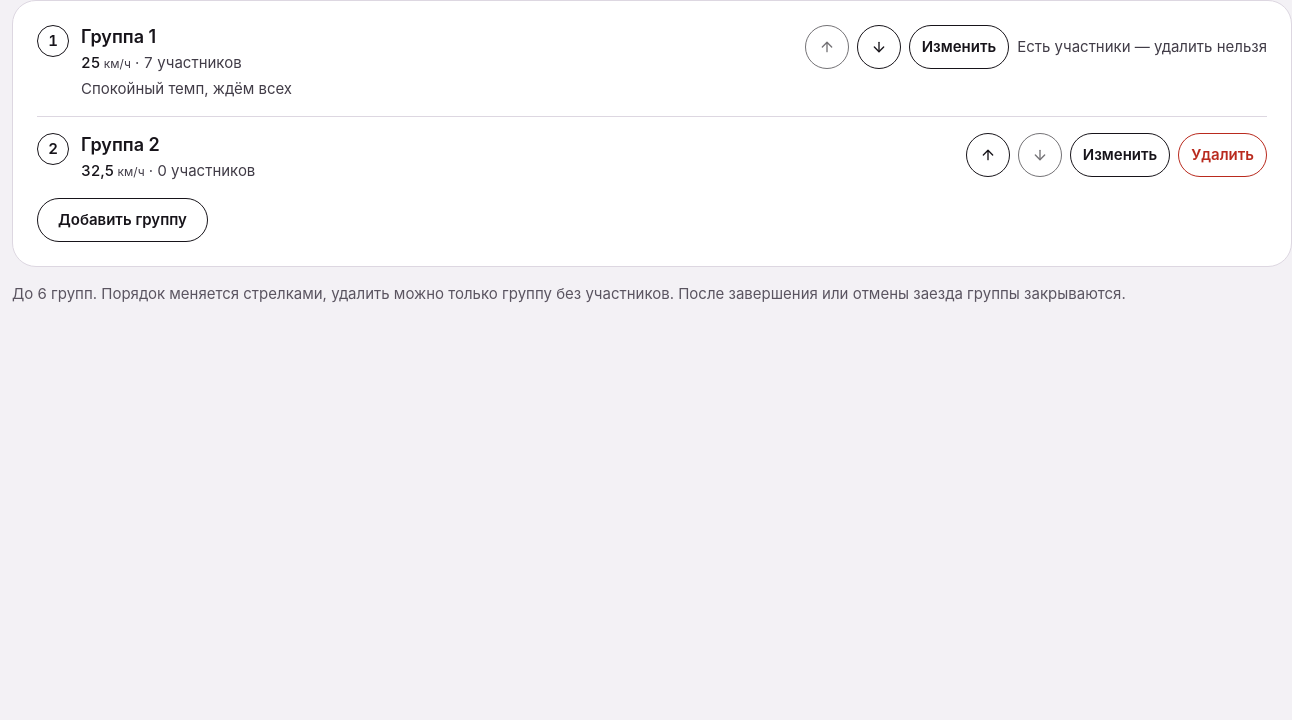
it: GroupsEditor — server errors › maps group_name_taken to the name field
Click the button "Добавить группу" at x=122, y=220, box [37,198,208,242]
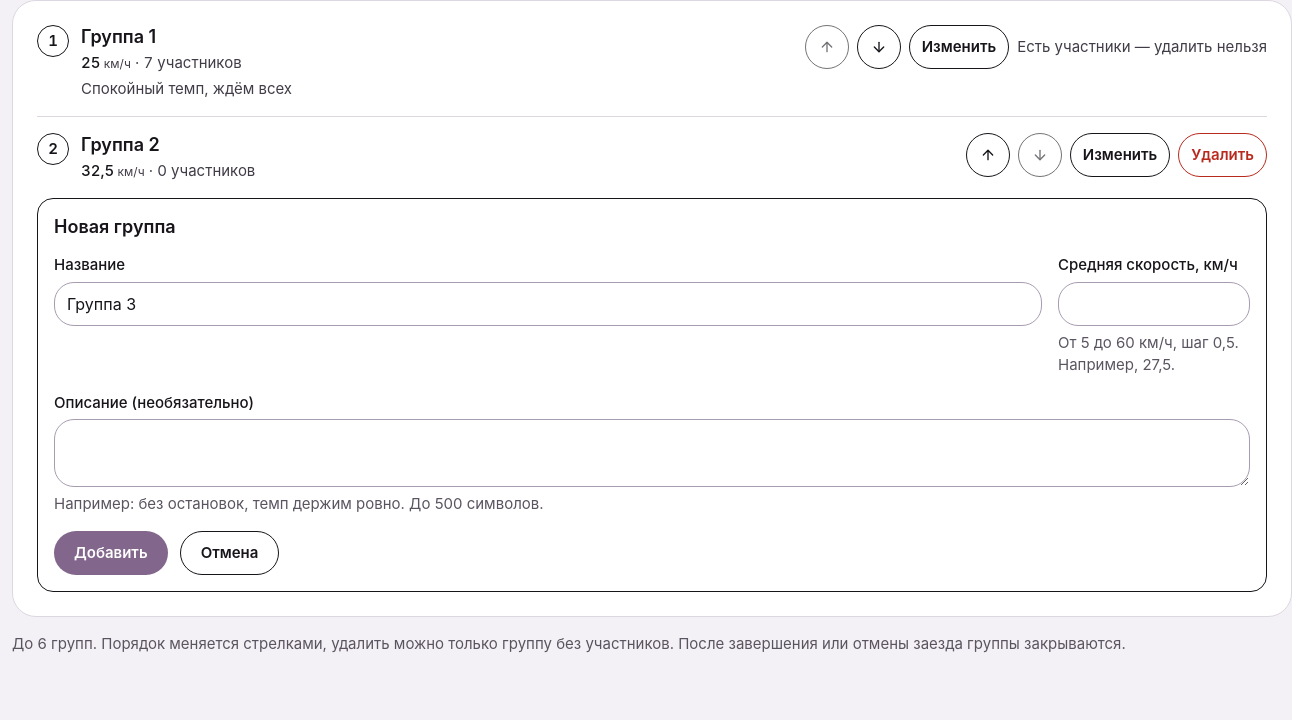
Type "30" into the field labelled "Средняя скорость, км/ч" at x=1154, y=304, box [1058,282,1250,326]
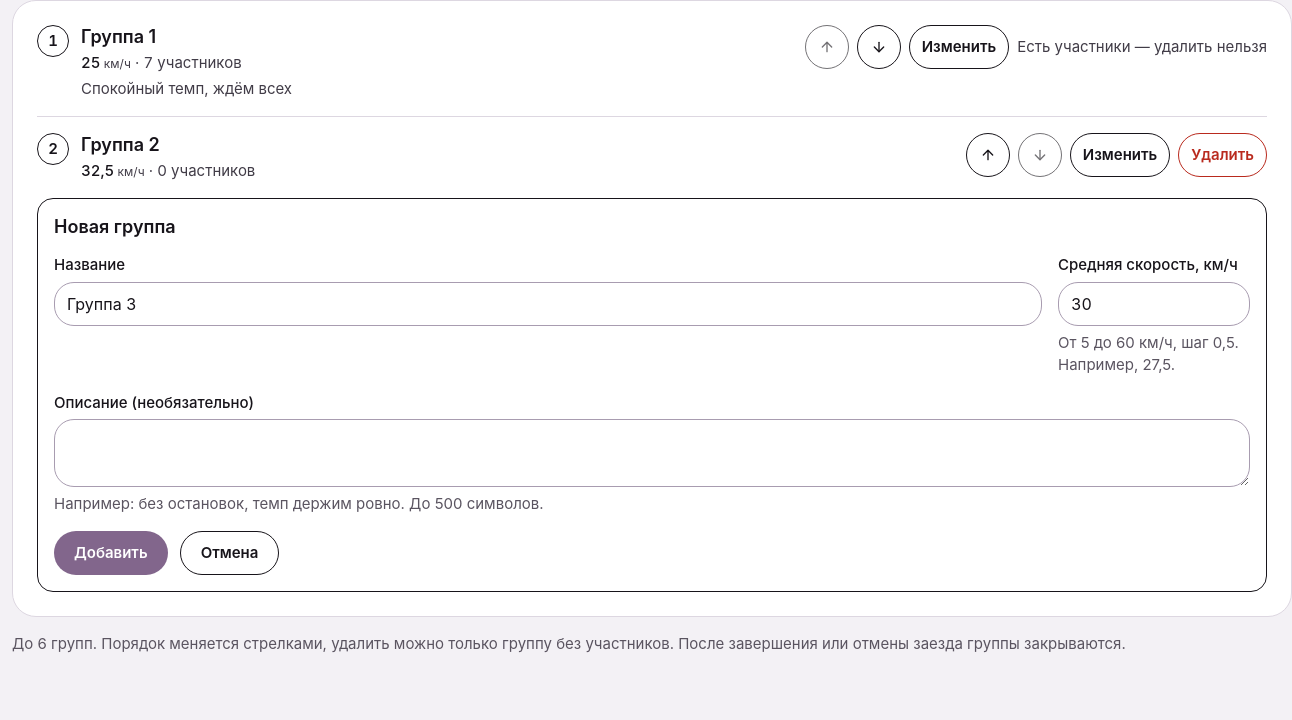
Click the button "Добавить" at x=111, y=553, box [54,531,168,575]
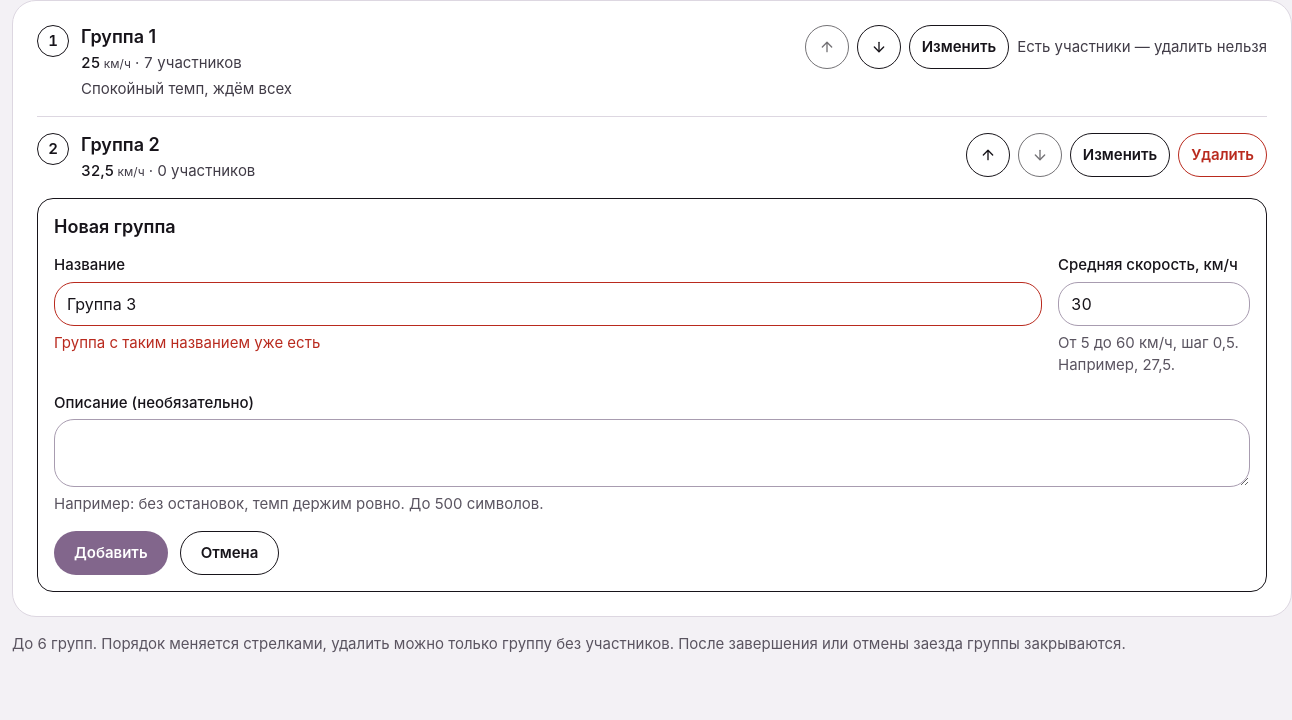
Result: the text "Группа с таким названием уже есть" is shown at [54,333,320,352]
